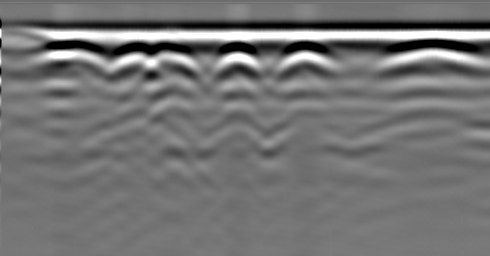pipe: (2, 26, 43, 44)
steel: (380, 43, 490, 74), (40, 40, 98, 70), (278, 44, 331, 74), (218, 43, 258, 75), (118, 40, 157, 71), (153, 43, 194, 71)
